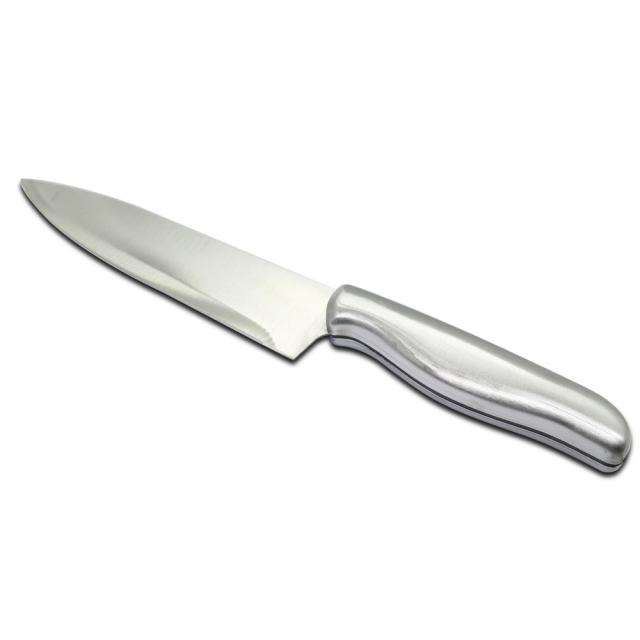Pisau: (11, 153, 640, 494)
